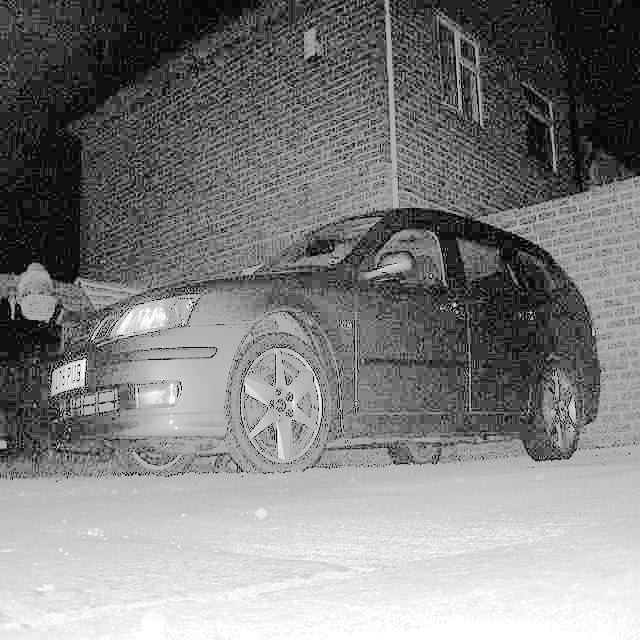Car: (41, 206, 640, 479)
